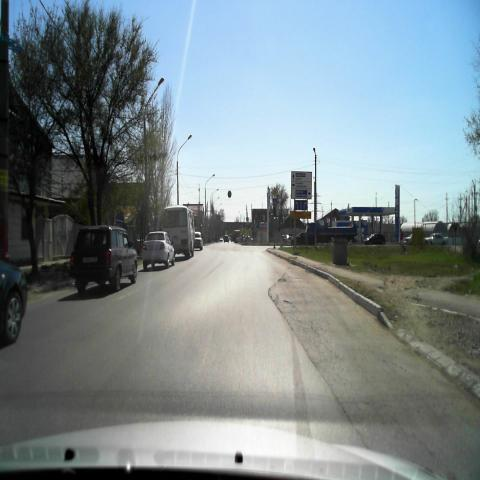2_1: (272, 186, 278, 198)
5_15_1: (294, 200, 308, 211)
5_19_1: (272, 200, 278, 207)
